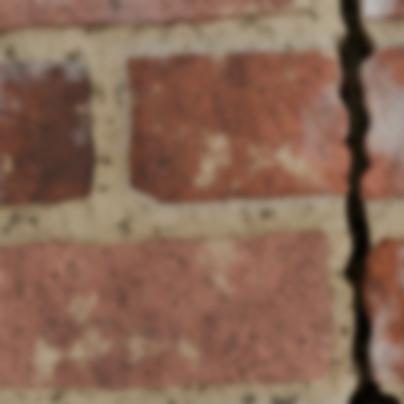brick: (0, 232, 333, 389), (0, 62, 95, 205), (0, 0, 312, 32), (364, 238, 403, 382), (363, 0, 403, 21)
broken_brick: (126, 48, 347, 203), (362, 47, 403, 200)
crack: (334, 0, 403, 403), (0, 109, 51, 129)
